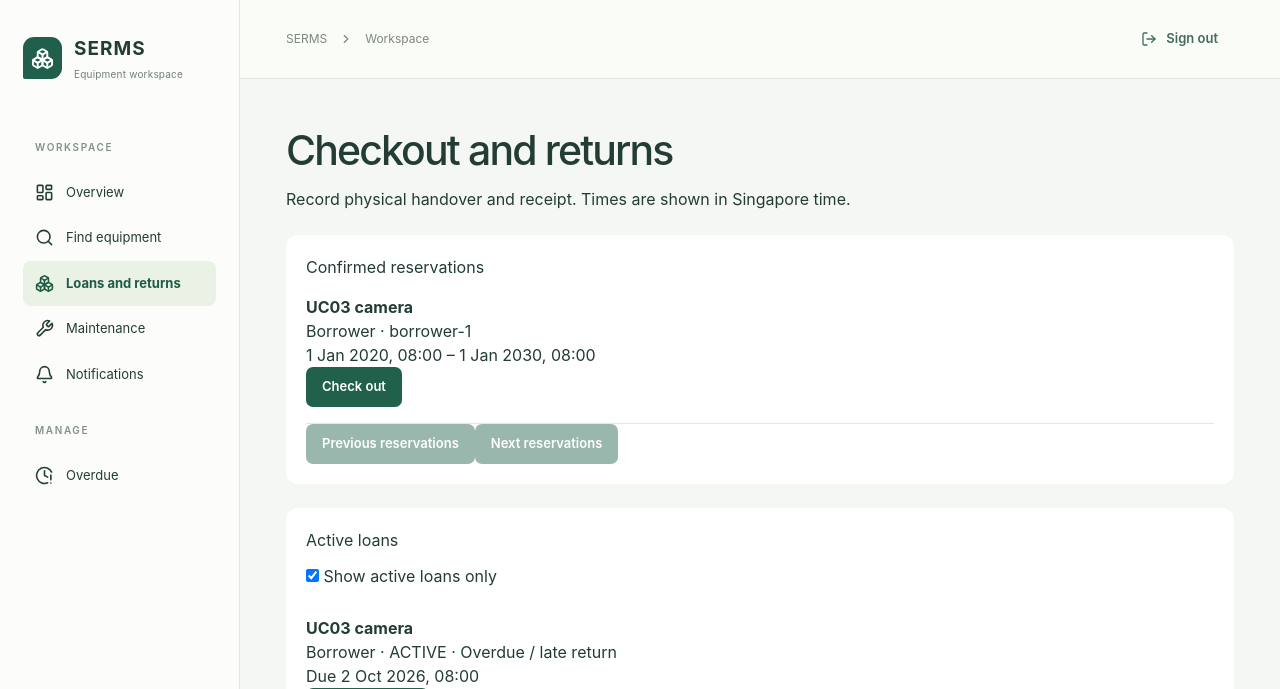
it: UC03 handover › requires physical identity confirmation and sends server version
This screenshot has width=1280, height=689.
Click the button "Check out" at (354, 387), box x1=306 y1=367 x2=402 y2=407
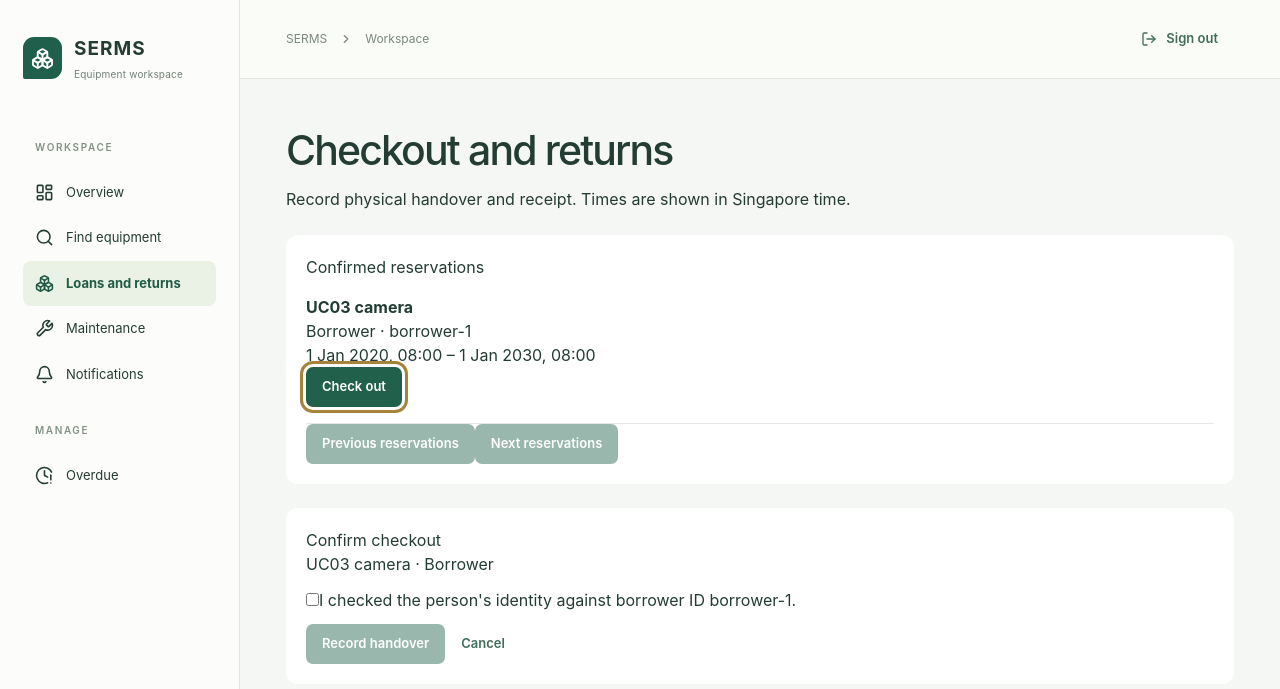
expect the button "Record handover" is disabled: met, box x1=306 y1=624 x2=445 y2=664
Click the checkbox labelled "I checked the person's identity" at (312, 600), box x1=306 y1=593 x2=319 y2=606
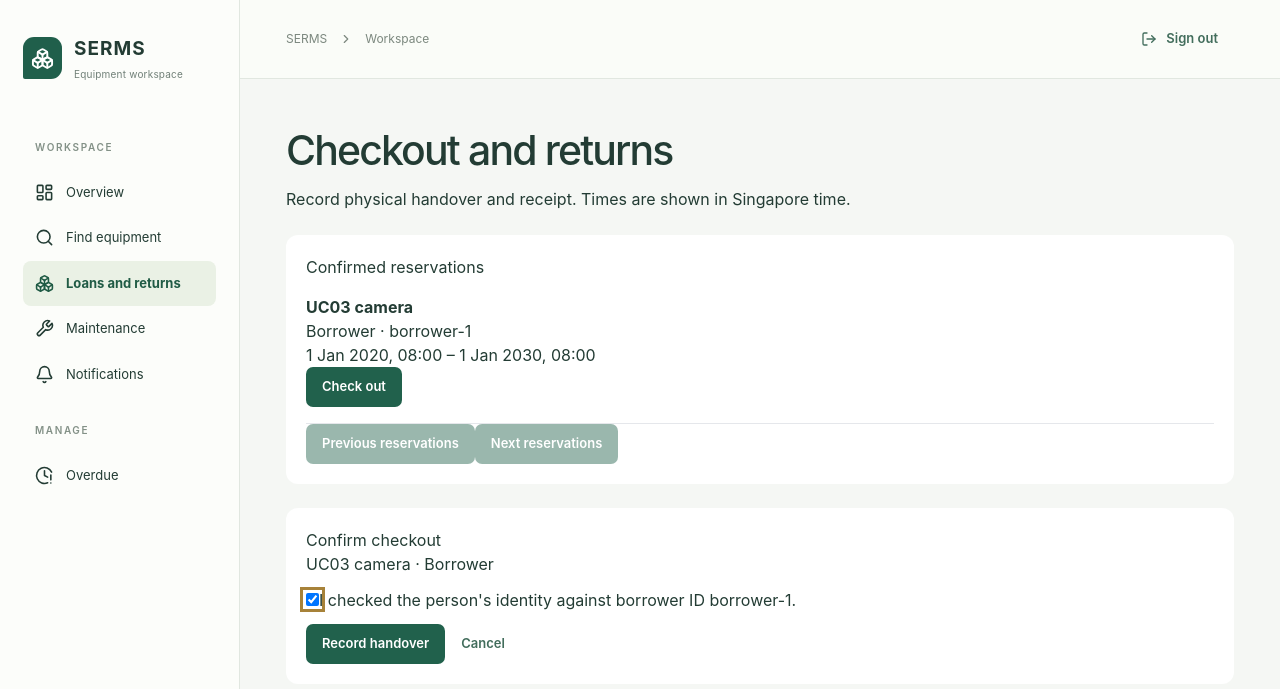
Click the button "Record handover" at (376, 644), box x1=306 y1=624 x2=445 y2=664
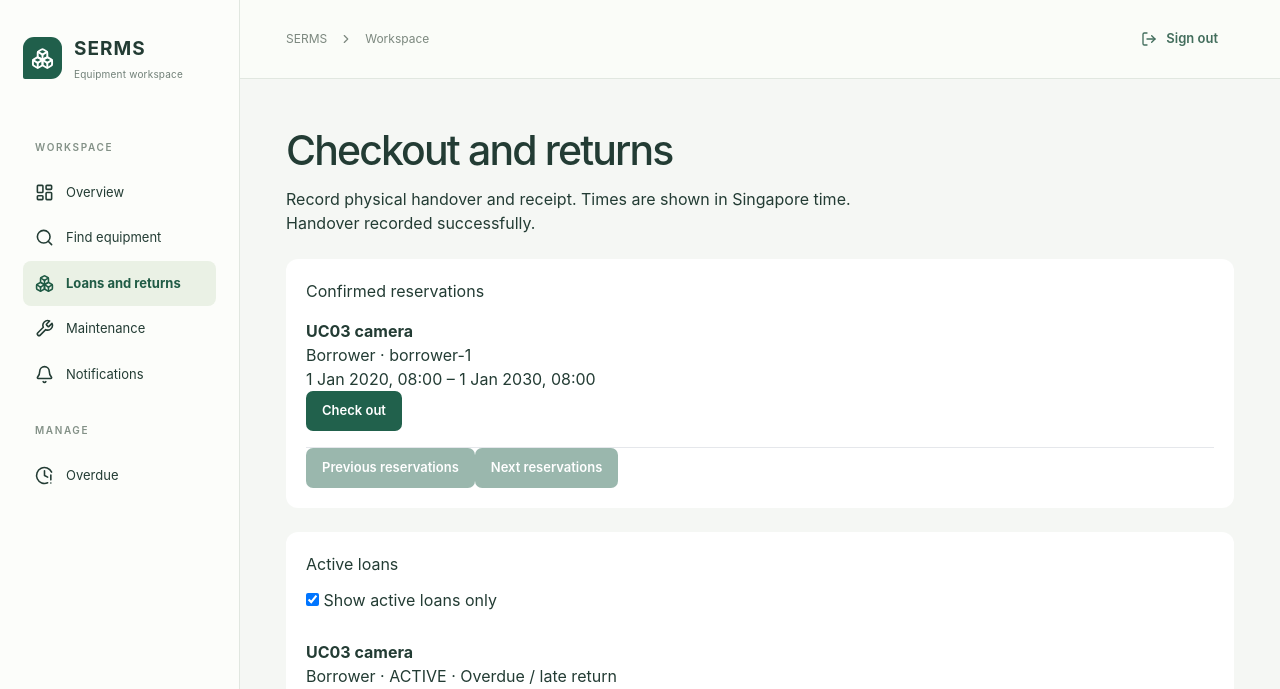
expect the text "Handover recorded successfully." is shown: met, box x1=286 y1=213 x2=536 y2=233
